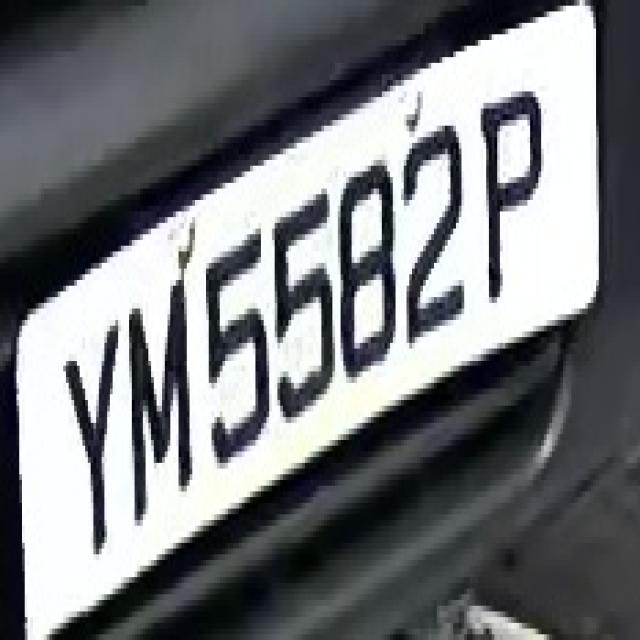2: (396, 120, 464, 354)
5: (200, 223, 272, 463), (266, 189, 332, 440)
8: (338, 143, 404, 377)
M: (124, 274, 200, 514)
P: (481, 75, 544, 292)
Y: (55, 320, 121, 571)
